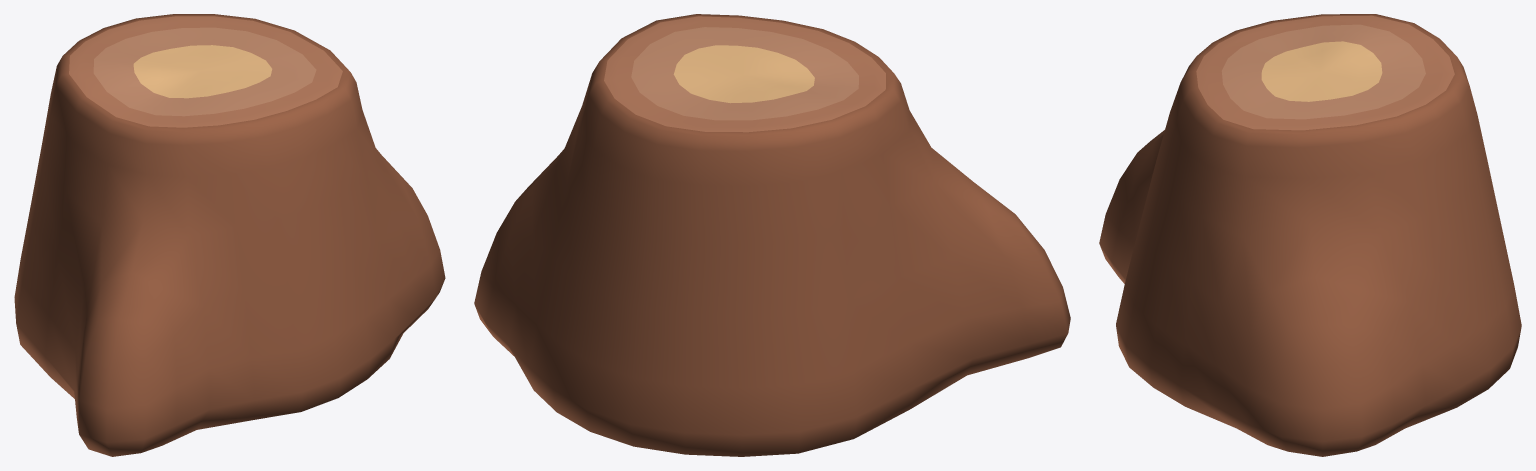
The model's file is Stump_B_02.fbx.
3 views of the same model, side by side, from view 1: azimuth 30°, elevation 25°; view 2: azimuth 150°, elevation 25°; view 3: azimuth 270°, elevation 25° (orthographic). The views are drawn at different scales.
Parts seen in each view (by area): view 1: Stump_B_02_LOD0; view 2: Stump_B_02_LOD0; view 3: Stump_B_02_LOD0.
Boxes of the visible parts, bbox=[...] form: Stump_B_02_LOD0: bbox=[14, 14, 445, 456]; Stump_B_02_LOD0: bbox=[474, 14, 1070, 456]; Stump_B_02_LOD0: bbox=[1099, 14, 1521, 456].
Size of what is drawn, in the model's own units: 397 by 242 by 322.
